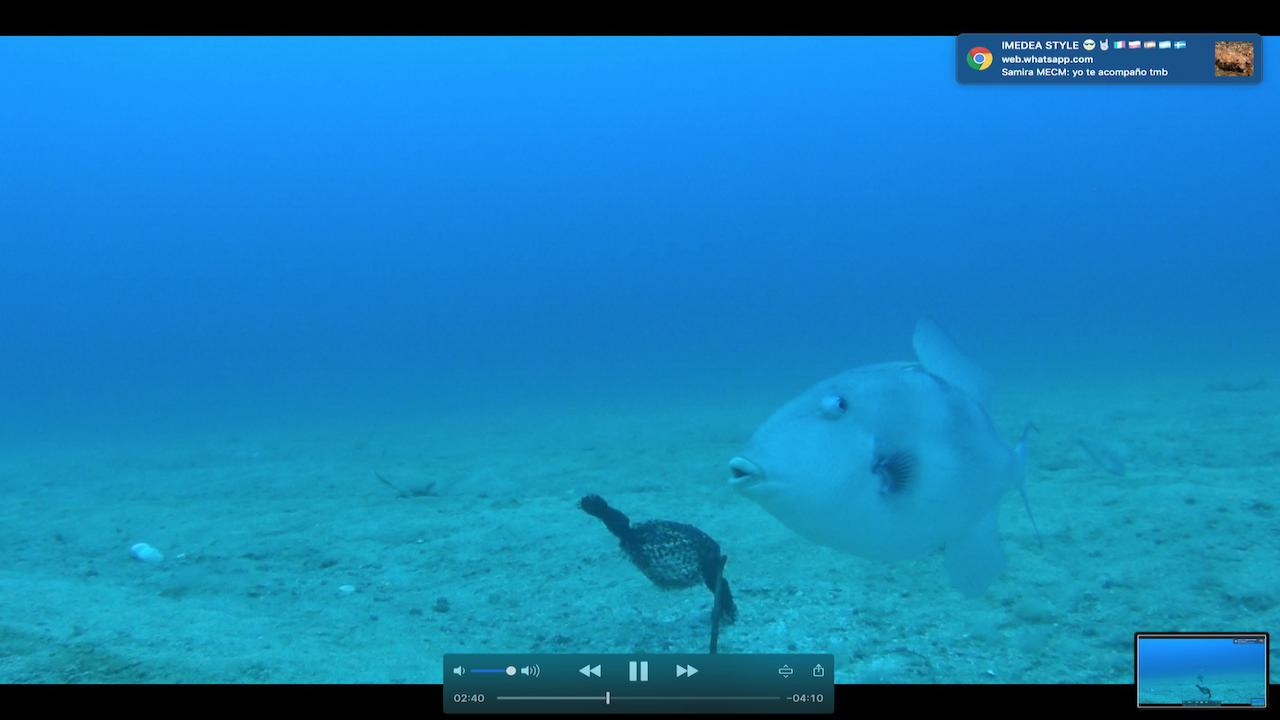balistes: (721, 311, 1053, 602)
